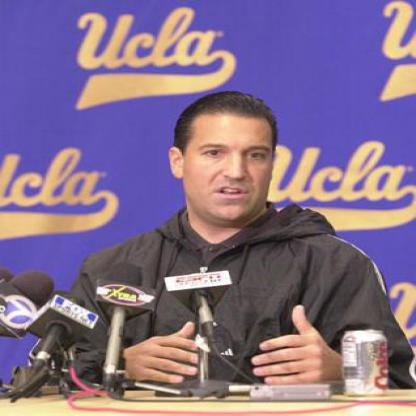face: (186, 96, 283, 225)
